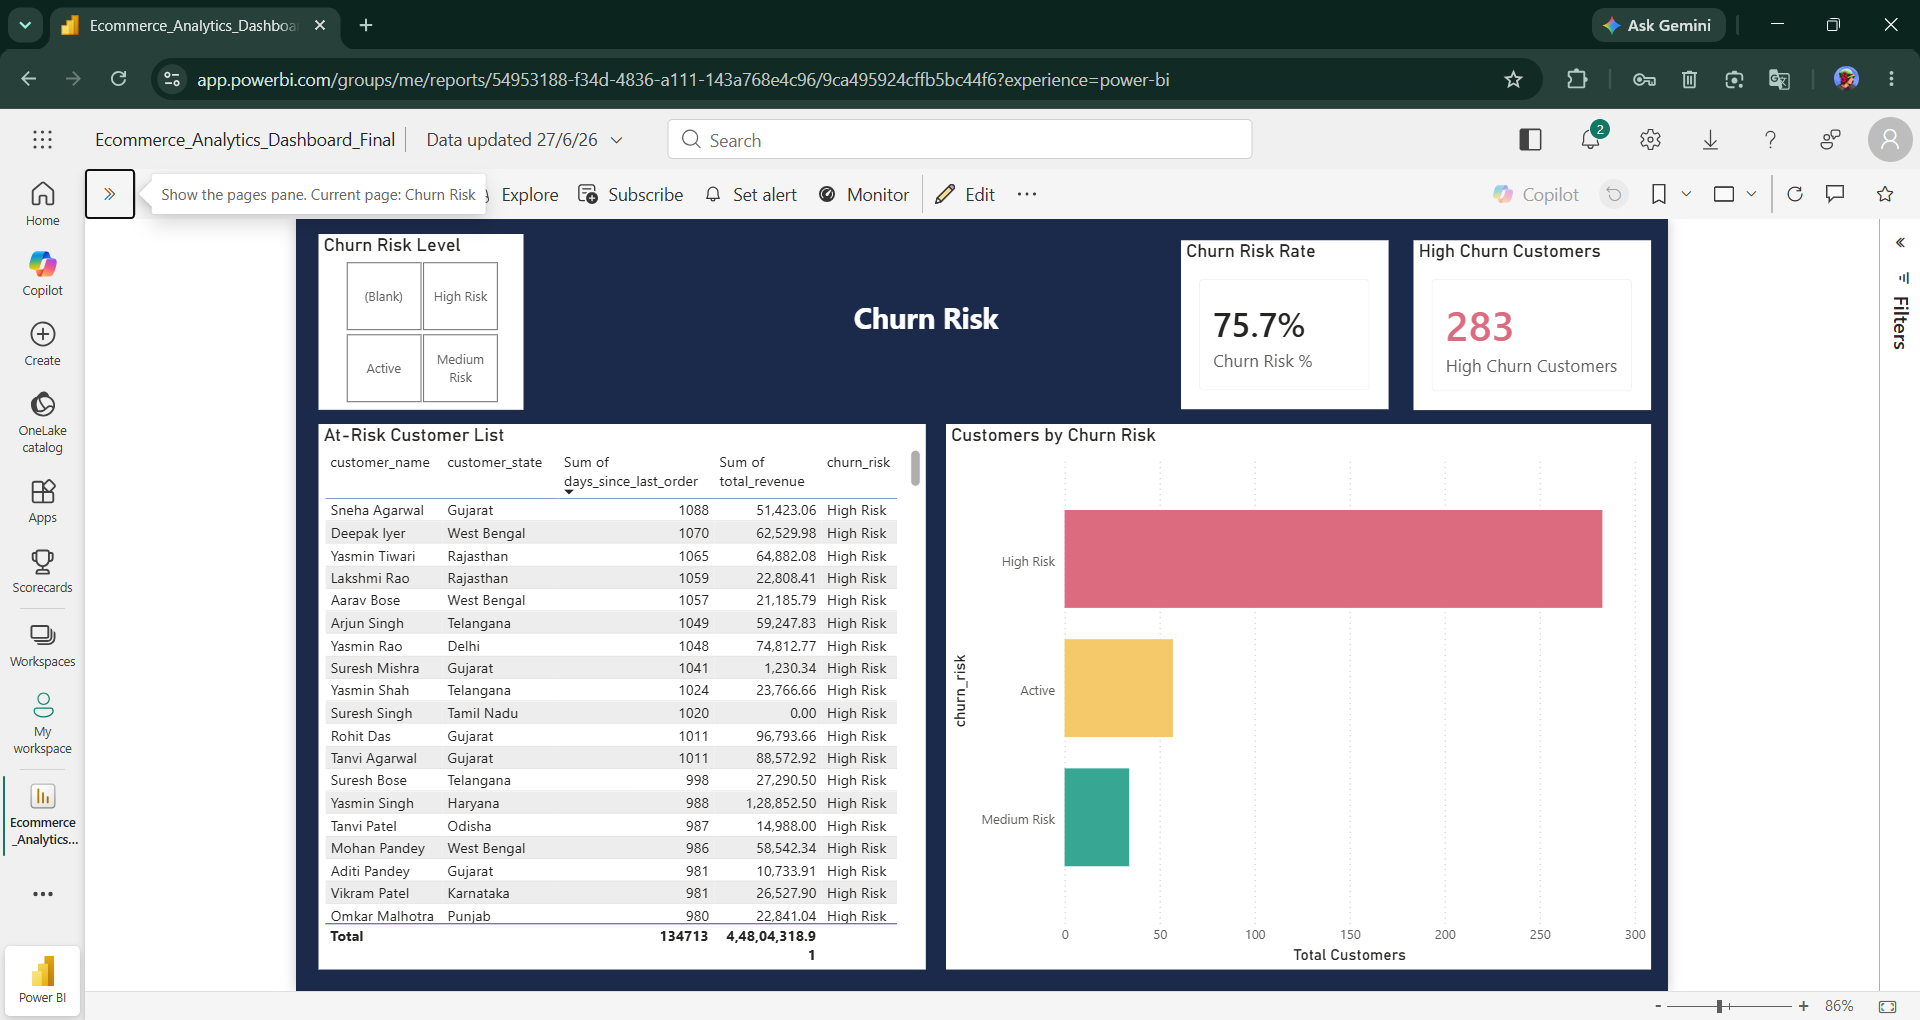

What the dashboard file says about the page in this screenshot:
{"tool":"powerbi","page":{"name":"Churn Risk","canvas":[1280,720],"ordinal":2},"visuals":[{"type":"cardVisual","title":"High Churn Customers","fields":{"Data":["_Measures.High Churn Customers"]},"box":[1042.5,20,221.2,158.8],"z":0},{"type":"cardVisual","title":"Churn Risk Rate","fields":{"Data":["_Measures.Churn Risk %"]},"box":[825,20,193.8,157.5],"z":1},{"type":"clusteredBarChart","title":"Customers by Churn Risk","fields":{"Category":["ChurnRisk.churn_risk"],"Y":["_Measures.Total Customers"]},"box":[606.2,191.2,657.5,508.8],"z":2},{"type":"slicer","title":"Churn Risk Level","fields":{"Values":["ChurnRisk.churn_risk"]},"box":[21.2,13.8,191.2,163.8],"z":3},{"type":"tableEx","title":"At-Risk Customer List","fields":{"Values":["ChurnRisk.customer_name","ChurnRisk.customer_state","Sum(ChurnRisk.days_since_last_order)","Sum(ChurnRisk.total_revenue)","ChurnRisk.churn_risk"]},"box":[21.2,191.2,566.2,508.8],"z":4},{"type":"textbox","box":[515,68.8,146.2,53.8],"z":5}]}

Visuals, with their boxes on the page's 1280x720 design canvas (x1, y1, x2, y2). These are canvas units, not pixel positions in the 1920x1020 screenshot, which may show the page scaled, cropped or inside an application window:
"High Churn Customers" cardVisual: [1042,20,1264,179]
"Churn Risk Rate" cardVisual: [825,20,1019,178]
"Customers by Churn Risk" clusteredBarChart: [606,191,1264,700]
"Churn Risk Level" slicer: [21,14,212,178]
"At-Risk Customer List" tableEx: [21,191,587,700]
textbox: [515,69,661,123]
